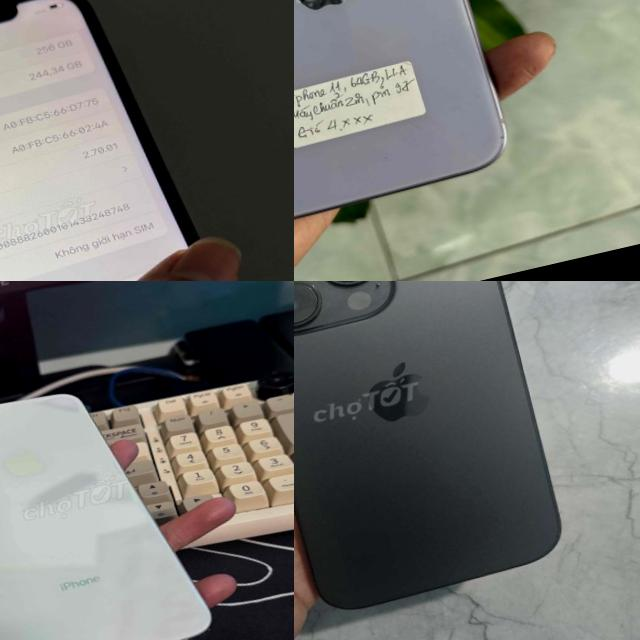gen_11: (294, 0, 530, 245)
gen_12_13: (0, 0, 278, 281)
gen_14: (294, 281, 592, 630)
gen_x_xs: (0, 356, 229, 640)
